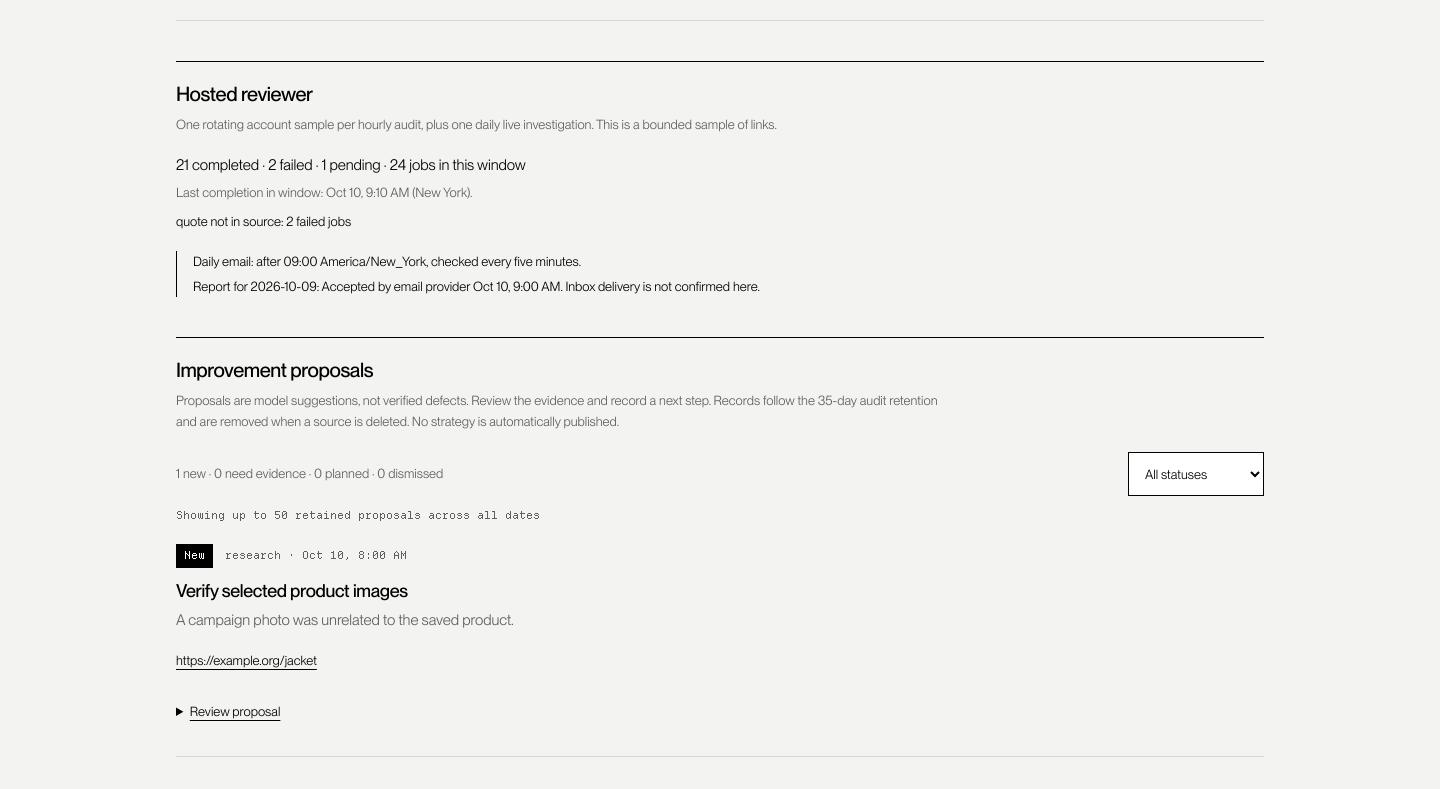
requires a review note and sends the displayed revision
Later steps or results of the test are not shown.
(page scrolled)
Expected: the heading "Verify selected product images" is shown, [176, 580, 408, 601]
Click the heading "Review proposal": (235, 711) [190, 704, 280, 719]
(page scrolled)
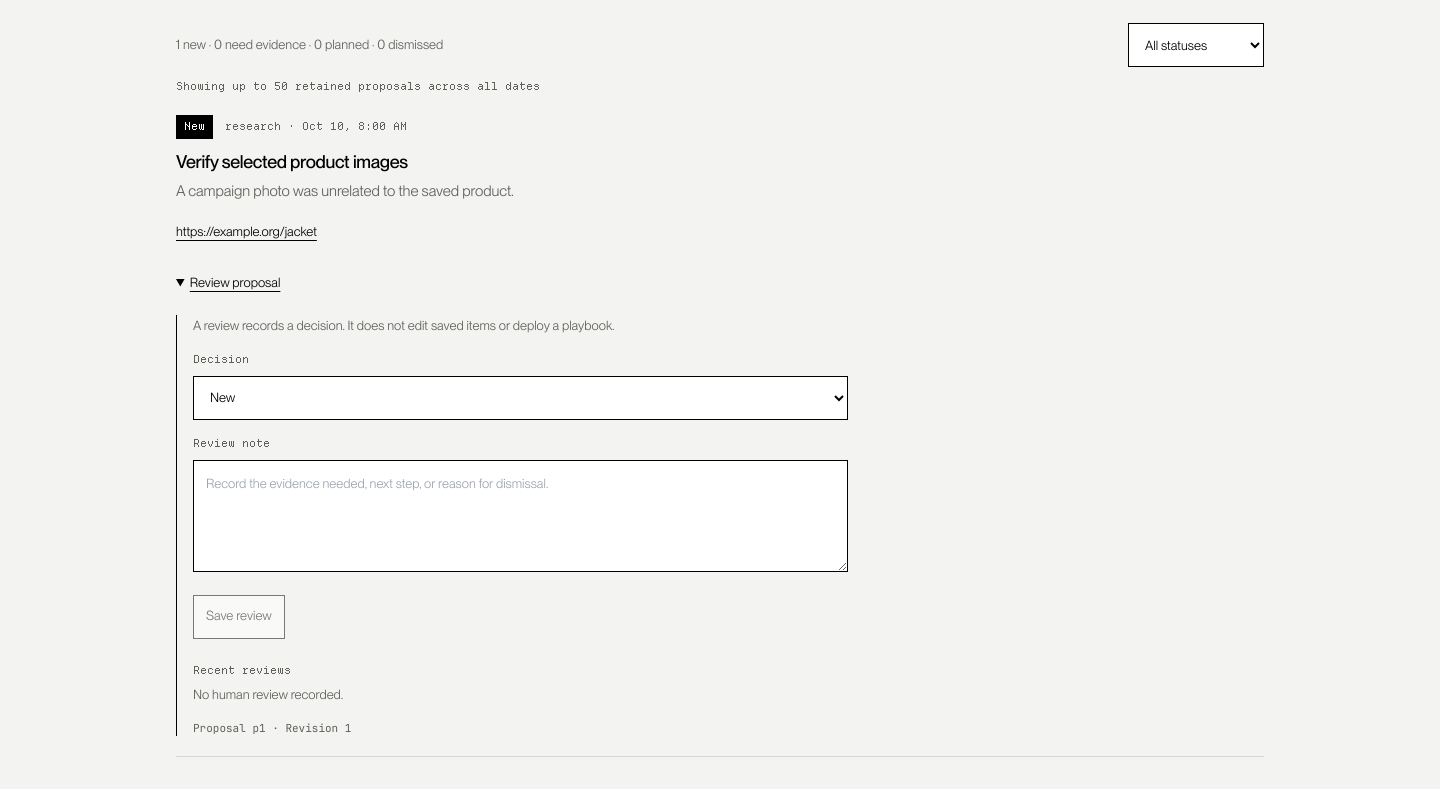
Expected: the button "Save review" is disabled, [193, 595, 285, 639]
